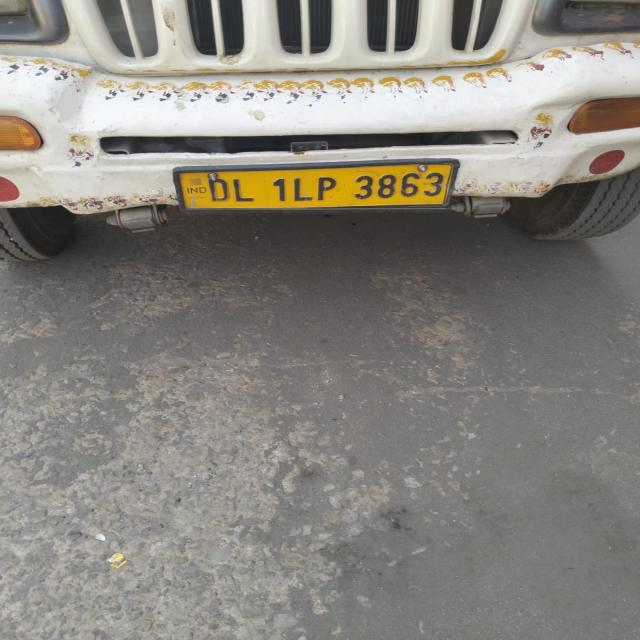License-plate: (200, 168, 451, 211)
